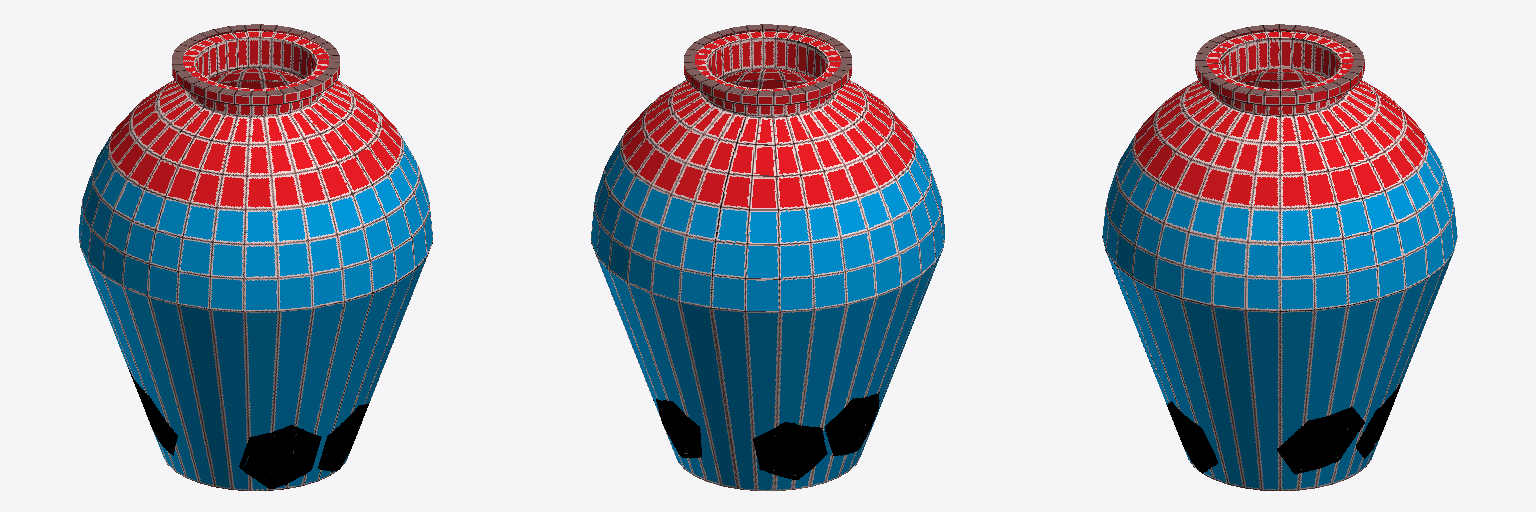
3 renders of one model, left to right at view 1: azimuth 30°, elevation 25°; view 2: azimuth 150°, elevation 25°; view 3: azimuth 270°, elevation 25°, orthographic.
Parts seen in each view (by area): view 1: Sphere; view 2: Sphere; view 3: Sphere.
Boxes of the visible parts, box(x1,y1,x2,y2) form: Sphere: box(79, 24, 432, 490); Sphere: box(591, 24, 944, 490); Sphere: box(1102, 24, 1457, 490).
Size of the model in its own units: 0.12 by 0.146 by 0.12.
1 materials, 1 textured.